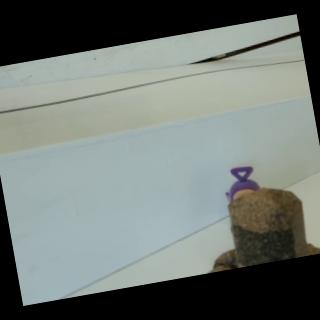teletubby: (226, 167, 260, 203)
